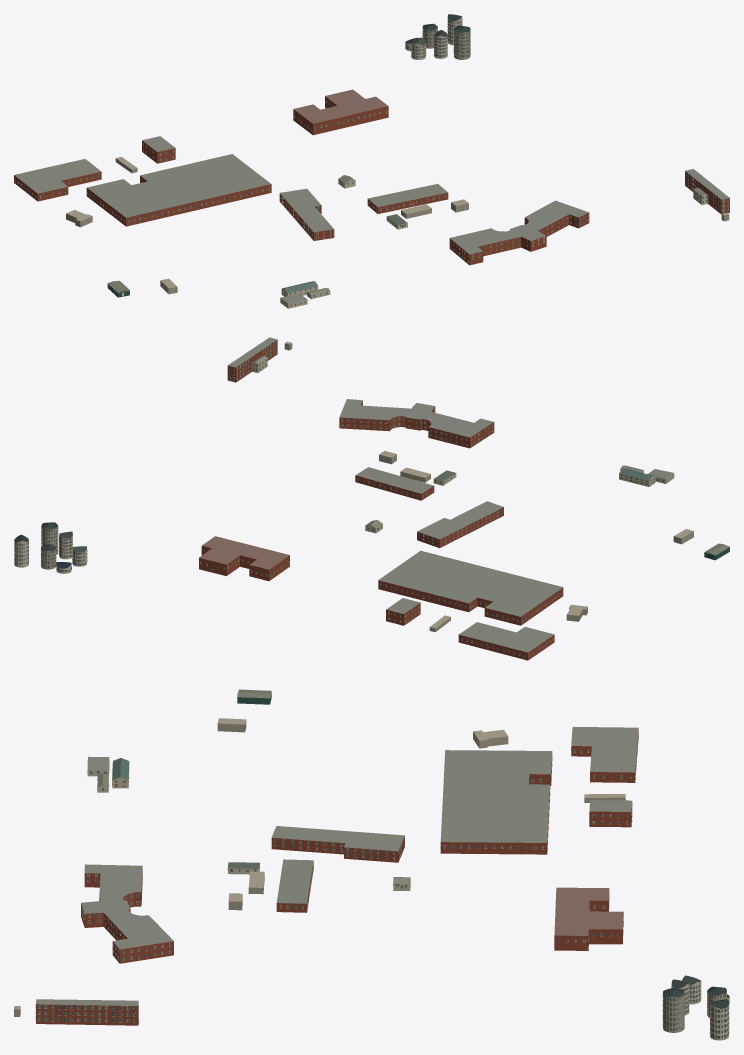
3 renders of one model, top to bottom at view 1: azimuth 30°, elevation 25°; view 2: azimuth 150°, elevation 25°; view 3: azimuth 270°, elevation 25°, orthographic. The views are drawn at different scales.
Parts seen in each view (by area): view 1: -6_1_271770601_0, -6_1_271770963_3, -6_1_271771385_10, -6_1_271950656_30; view 2: -6_1_271770601_0, -6_1_271770963_3, -6_1_271771385_10; view 3: -6_1_271770601_0, -6_1_271770963_3, -6_1_271771385_10, -6_1_271950656_30.
Boxes of the visible parts, x1=… form: -6_1_271770601_0: x1=14, y1=14, x2=729, y2=303; -6_1_271770963_3: x1=14, y1=14, x2=729, y2=306; -6_1_271771385_10: x1=280, y1=17, x2=707, y2=308; -6_1_271950656_30: x1=422, y1=28, x2=470, y2=59; -6_1_271770601_0: x1=14, y1=337, x2=729, y2=656; -6_1_271770963_3: x1=14, y1=339, x2=673, y2=660; -6_1_271771385_10: x1=14, y1=358, x2=674, y2=573; -6_1_271770601_0: x1=14, y1=689, x2=729, y2=1038; -6_1_271770963_3: x1=35, y1=729, x2=729, y2=1038; -6_1_271771385_10: x1=87, y1=763, x2=729, y2=1040; -6_1_271950656_30: x1=663, y1=992, x2=726, y2=1032.
Bounding box in the file's own units: 470 × 28.68 × 413.
